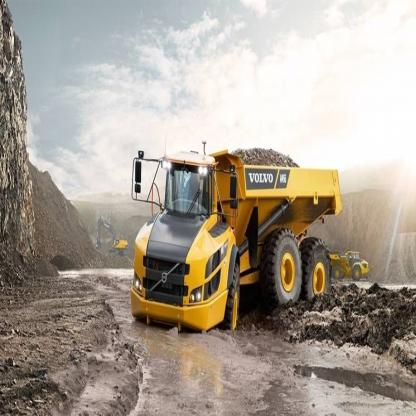dump_truck: (130, 135, 352, 336)
